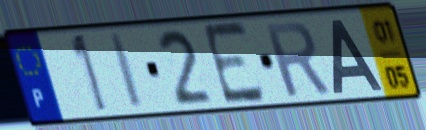1: (68, 31, 112, 117)
2: (155, 27, 216, 109)
A: (330, 16, 386, 96)
E: (198, 18, 269, 109)
I: (106, 30, 147, 112)
R: (260, 19, 334, 100)
